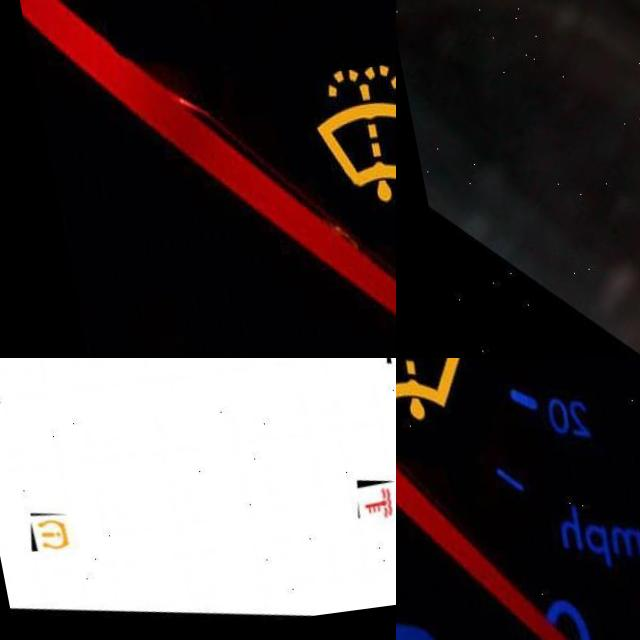Washer Fluid: (396, 358, 466, 436)
